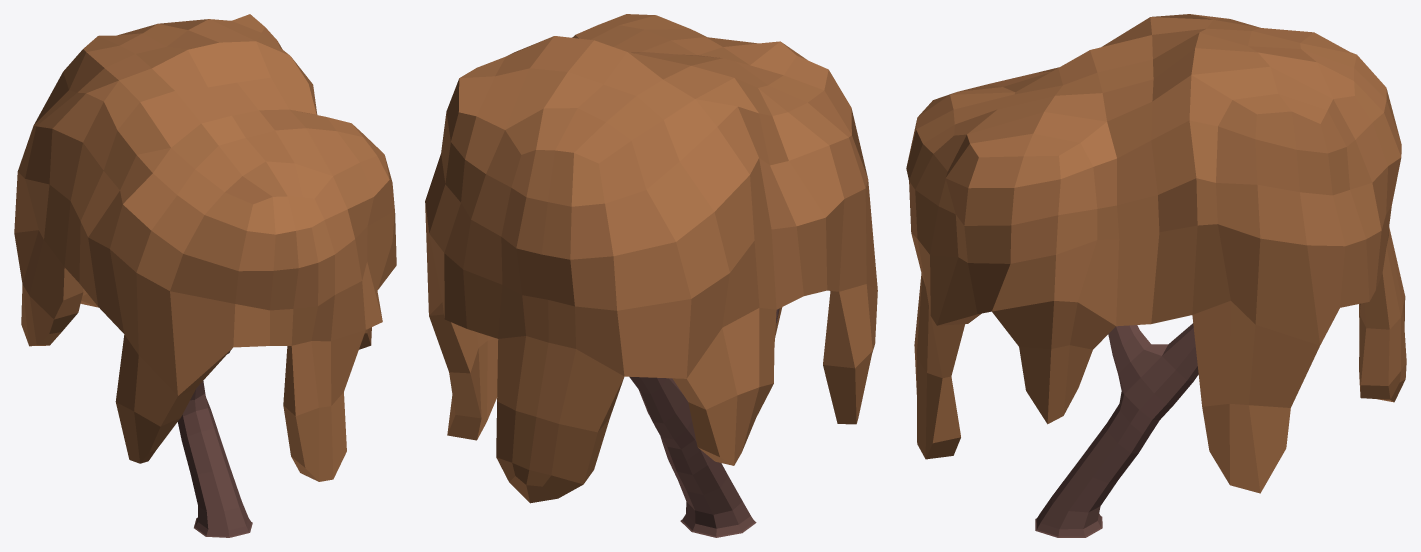
The model's file is willow_autumn4.glb.
3 renders of one model, left to right at view 1: azimuth 30°, elevation 25°; view 2: azimuth 150°, elevation 25°; view 3: azimuth 270°, elevation 25°, orthographic. The views are drawn at different scales.
Visible parts, largest first — view 1: Willow_Autumn_4; view 2: Willow_Autumn_4; view 3: Willow_Autumn_4.
Boxes of the visible parts, left/top/right/bottom form: Willow_Autumn_4: left=14, top=14, right=396, bottom=537; Willow_Autumn_4: left=425, top=14, right=877, bottom=537; Willow_Autumn_4: left=906, top=14, right=1406, bottom=537.
Bounding box in the file's own units: 2.19 × 3.39 × 3.04.
